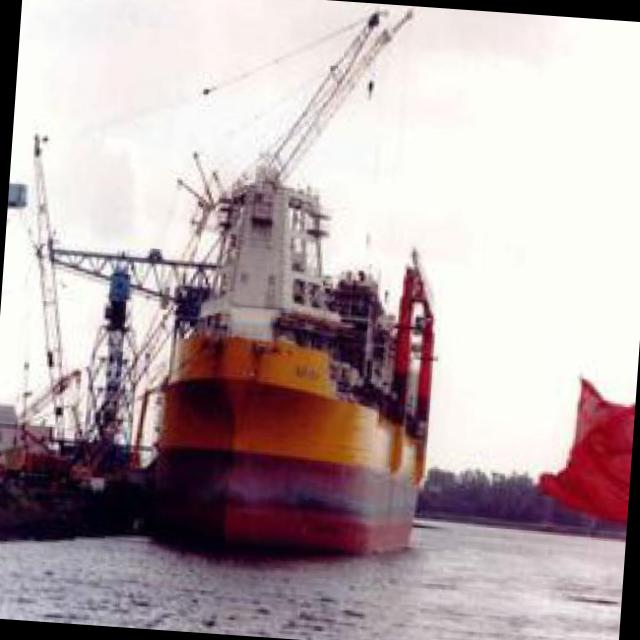boat: (149, 260, 473, 586)
